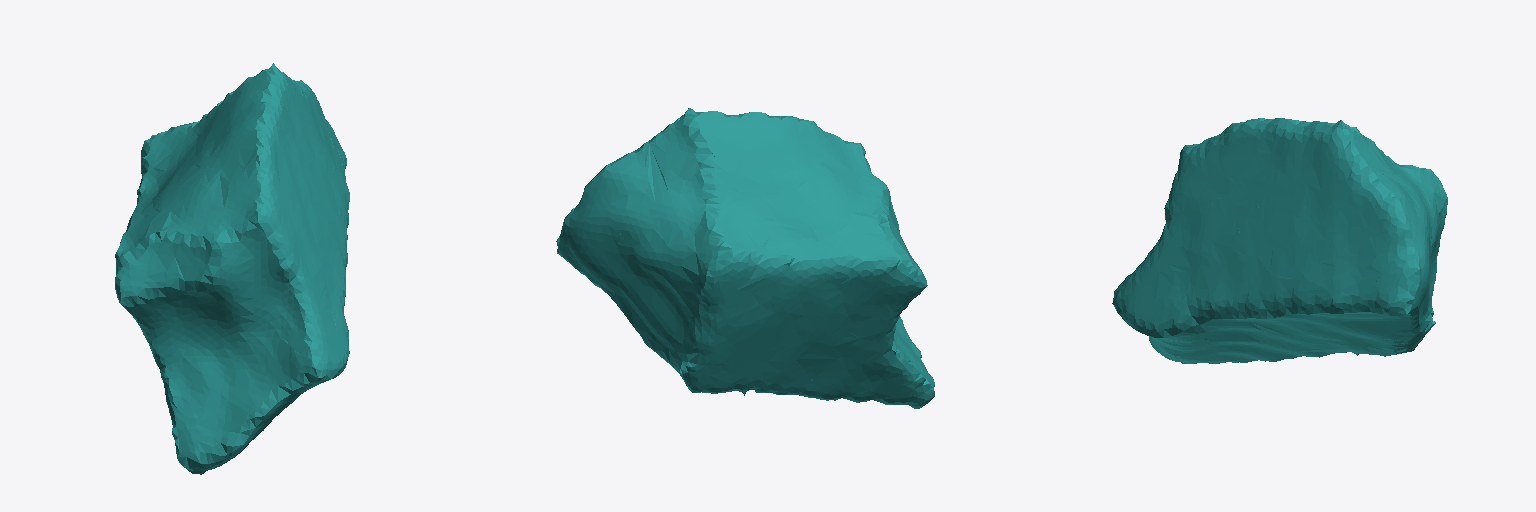
File: Model_36_RH__Area_6_of_cortex__ventral__part_a_(A6Va).obj
3 views of the same model, side by side, from view 1: azimuth 30°, elevation 25°; view 2: azimuth 150°, elevation 25°; view 3: azimuth 270°, elevation 25° (orthographic).
Size of the model in its own units: 3.66 by 3.77 by 3.6.